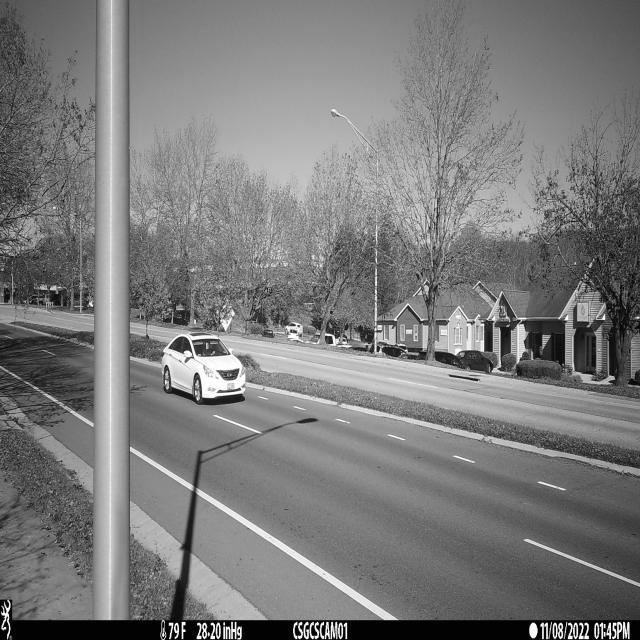Sedan: (158, 334, 245, 402)
